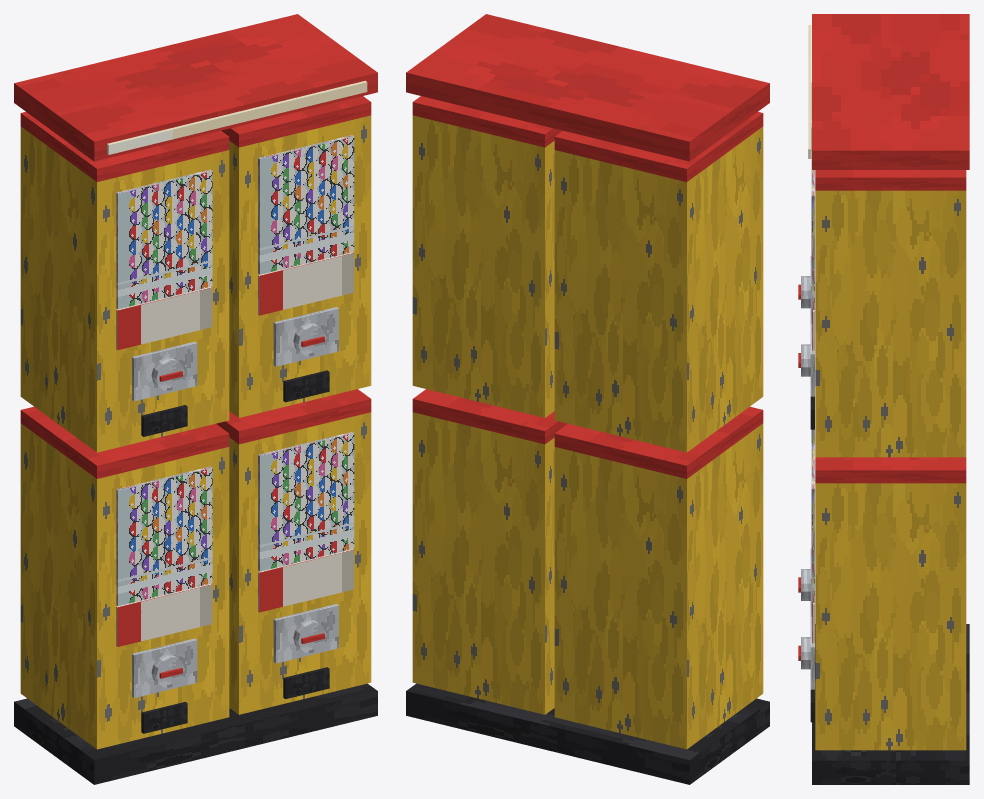
Rendered from route_machine_yellow.glb.
The picture shows the model from 3 angles, left to right: view 1: azimuth 30°, elevation 25°; view 2: azimuth 150°, elevation 25°; view 3: azimuth 270°, elevation 25°; orthographic projection.
Parts seen in each view (by area): view 1: Cube; view 2: Cube; view 3: Cube.
Boxes of the visible parts, left/top/right/bottom form: Cube: left=14, top=14, right=377, bottom=784; Cube: left=406, top=14, right=769, bottom=784; Cube: left=798, top=14, right=969, bottom=784.
Size of the model in its own units: 0.9 by 1.95 by 0.478.
7 materials, 7 textured.
